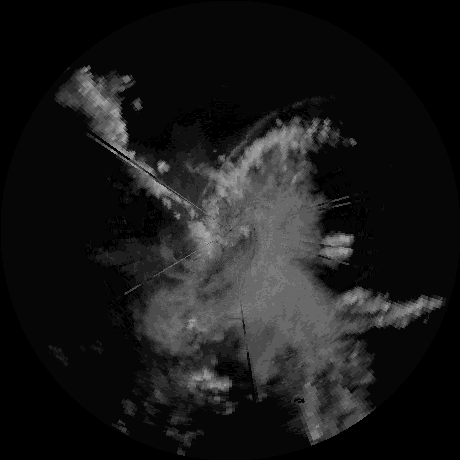frontgust: (200, 115, 267, 198)
